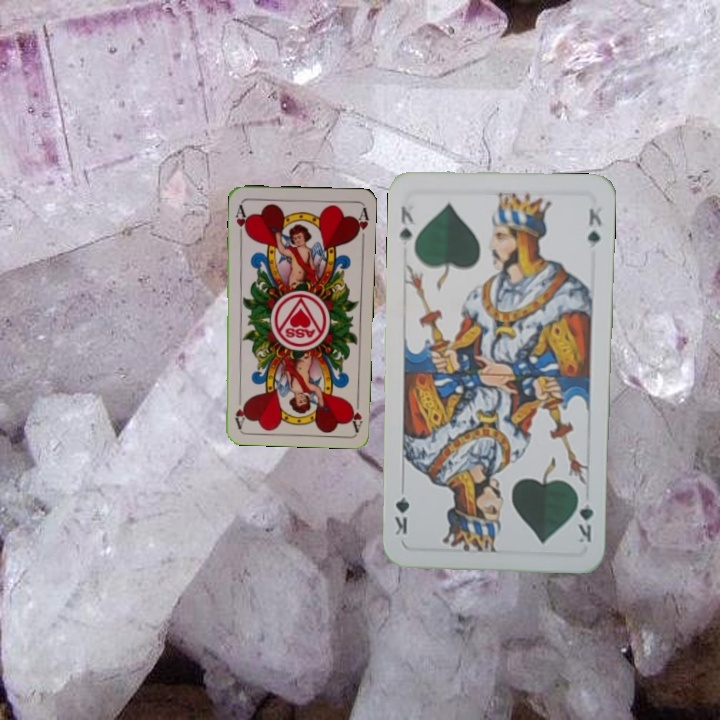GK: (573, 488, 596, 545), (395, 201, 418, 248)
HA: (345, 392, 365, 432), (231, 201, 251, 240)
